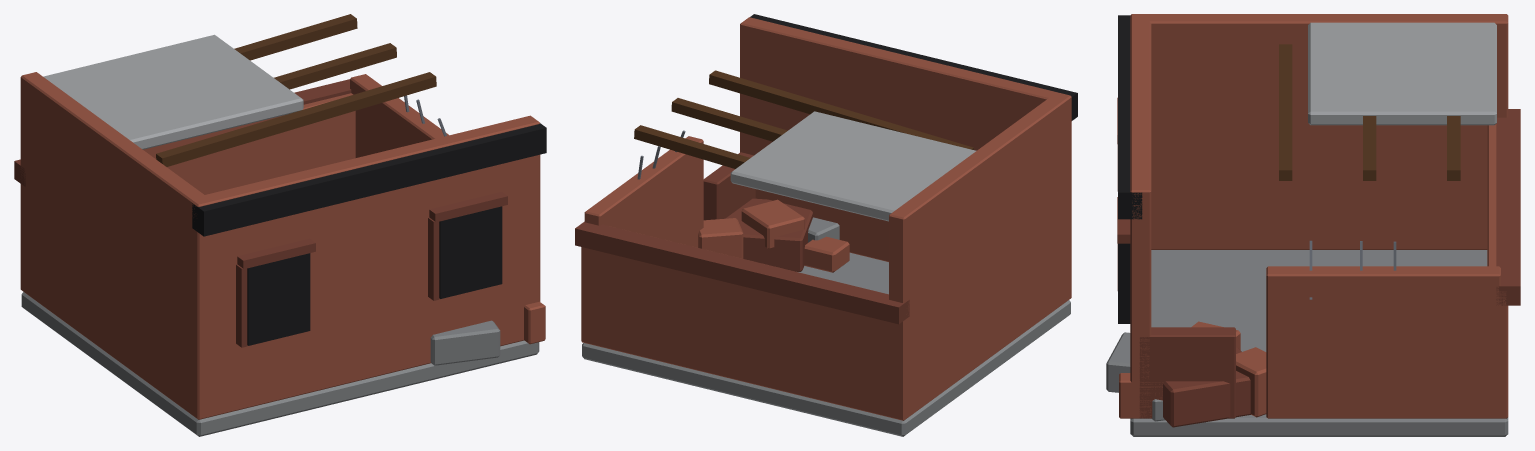
The model's file is bld_ruined.glb.
The picture shows the model from 3 angles, left to right: view 1: azimuth 30°, elevation 25°; view 2: azimuth 150°, elevation 25°; view 3: azimuth 270°, elevation 25°; orthographic projection. The views are drawn at different scales.
Visible parts, largest first — view 1: bld_ruined; view 2: bld_ruined; view 3: bld_ruined.
Boxes of the visible parts, x1=… form: bld_ruined: x1=14, y1=14, x2=546, y2=436; bld_ruined: x1=575, y1=14, x2=1077, y2=436; bld_ruined: x1=1106, y1=14, x2=1520, y2=436.
Bounding box in the file's own units: 5.26 × 3.28 × 4.93.
